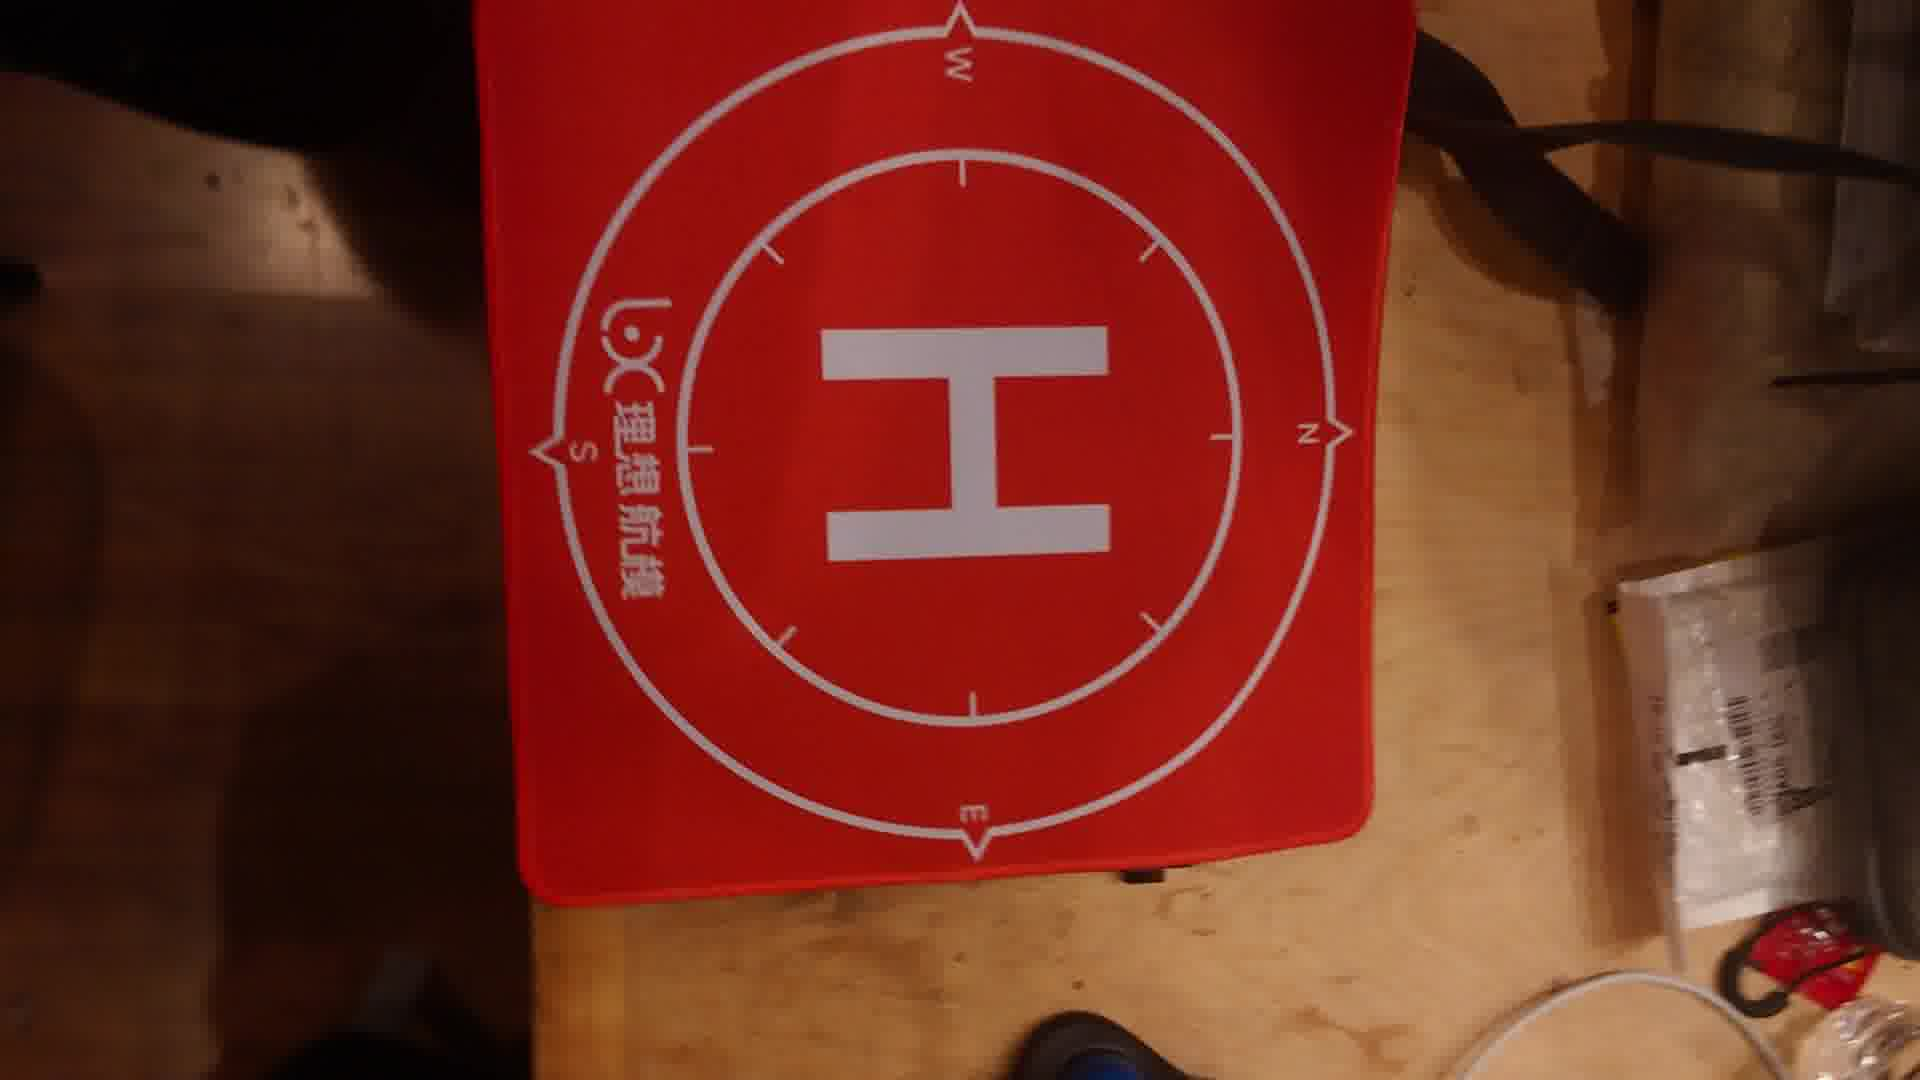H: (823, 328, 1113, 562)
